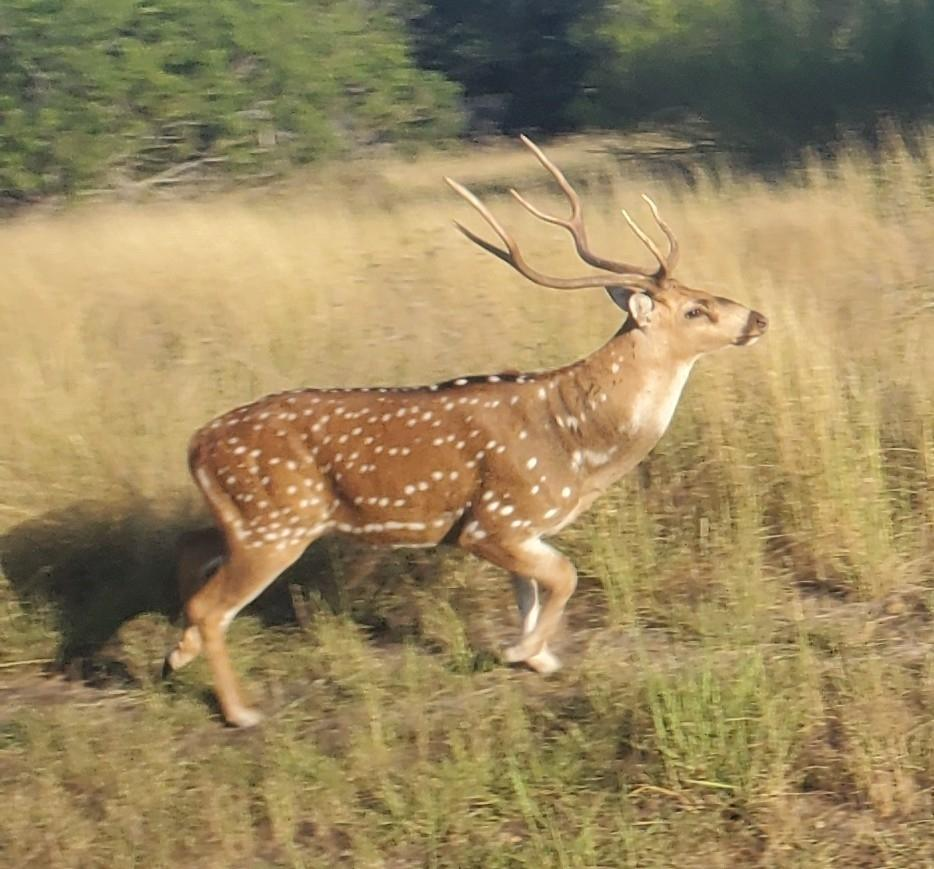Deer: (166, 136, 767, 726)
